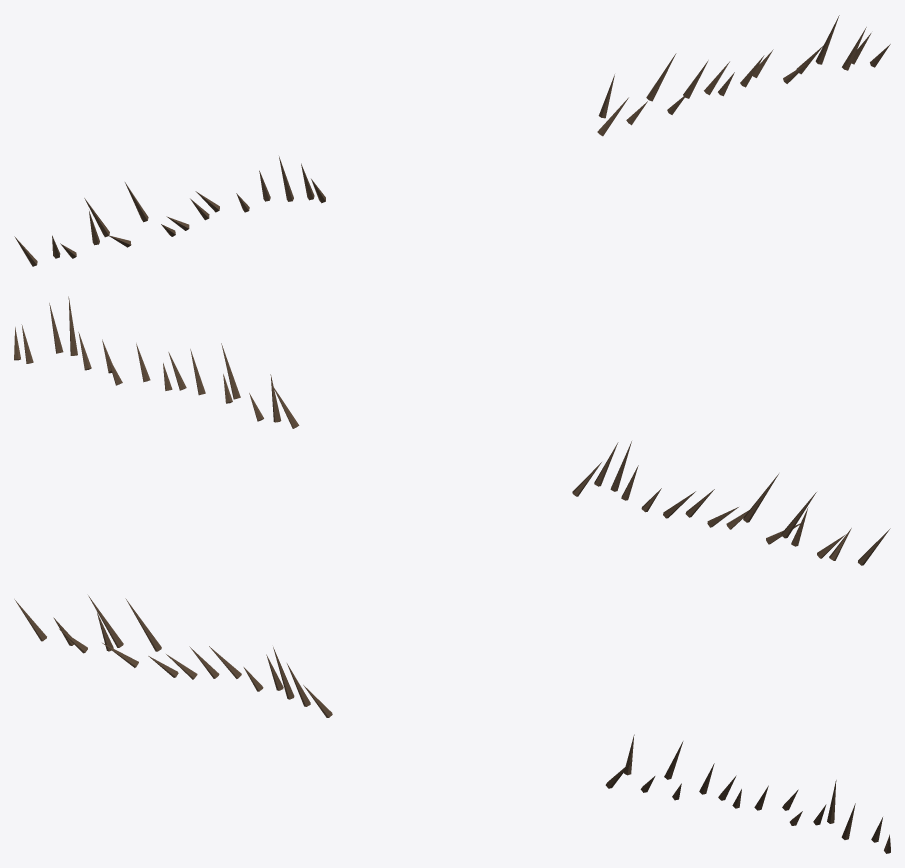
Rendered from thin.glb.
3 renders of one model, top to bottom at view 1: azimuth 30°, elevation 25°; view 2: azimuth 150°, elevation 25°; view 3: azimuth 330°, elevation 25°, orthographic.
Bounding box in the file's own units: 0.1789 × 0.0143 × 0.00845.
